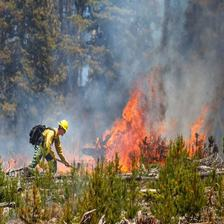fire: (67, 89, 214, 174)
